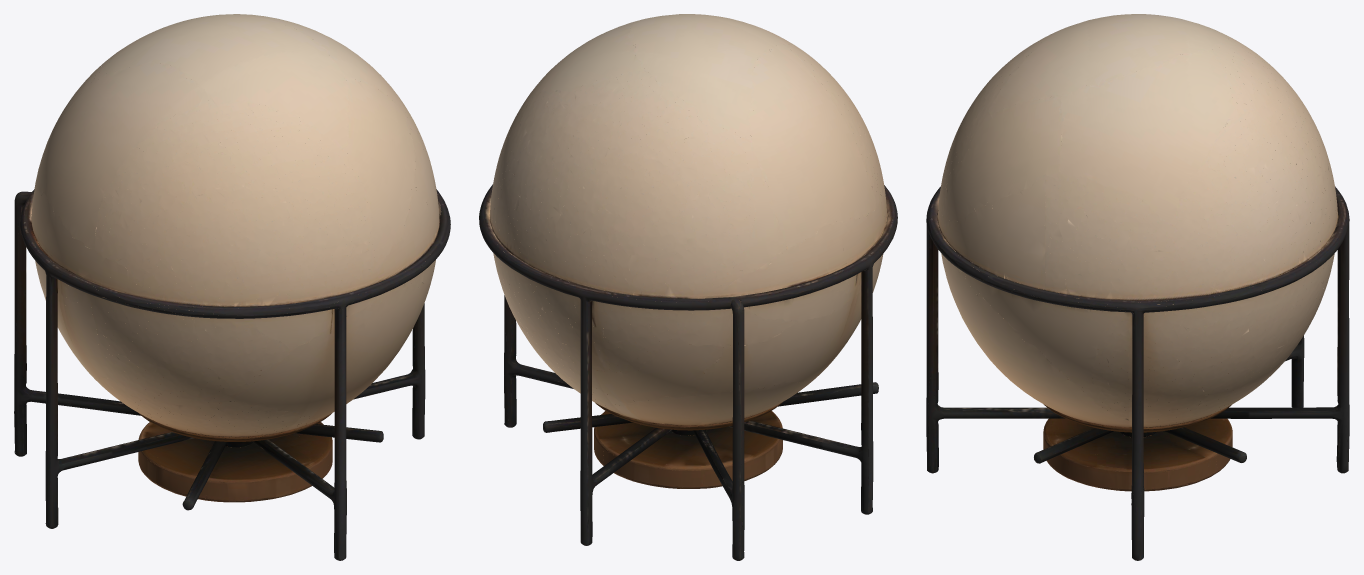
The model's file is globe_lamp.glb.
3 views of the same model, side by side, from view 1: azimuth 30°, elevation 25°; view 2: azimuth 150°, elevation 25°; view 3: azimuth 270°, elevation 25° (orthographic). The views are drawn at different scales.
Parts seen in each view (by area): view 1: node_0; view 2: node_0; view 3: node_0.
Boxes of the visible parts, box(x1,y1,x2,y2) form: node_0: box(14, 14, 450, 560); node_0: box(479, 14, 897, 560); node_0: box(926, 14, 1349, 560).
Size of the model in its own units: 0.777 by 0.8855 by 0.7707.
Materials: 1 (1 with a texture image).
